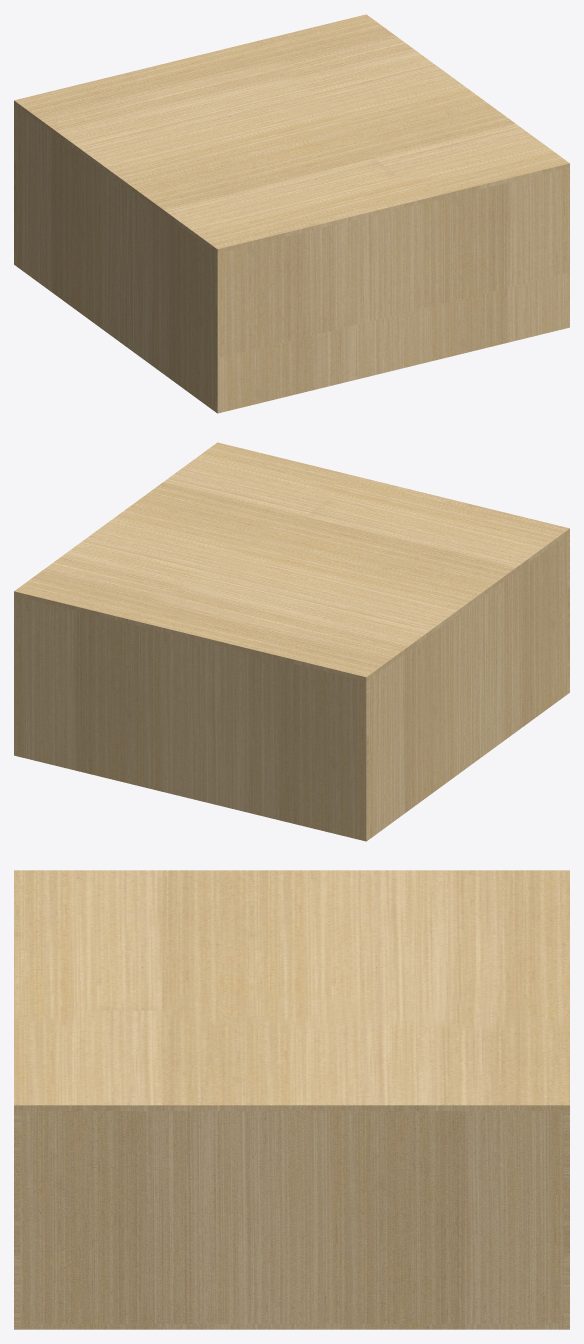
File: XiangGai.fbx
3 views of the same model, one above another, from view 1: azimuth 30°, elevation 25°; view 2: azimuth 150°, elevation 25°; view 3: azimuth 270°, elevation 25° (orthographic). The views are drawn at different scales.
Visible parts, largest first — view 1: polySurface386; view 2: polySurface386; view 3: polySurface386.
Boxes of the visible parts, box(x1,y1,x2,y2) form: polySurface386: box(14, 14, 569, 413); polySurface386: box(14, 442, 569, 841); polySurface386: box(14, 870, 569, 1329).
Size of the model in its own units: 88.52 by 39.41 by 88.52.
